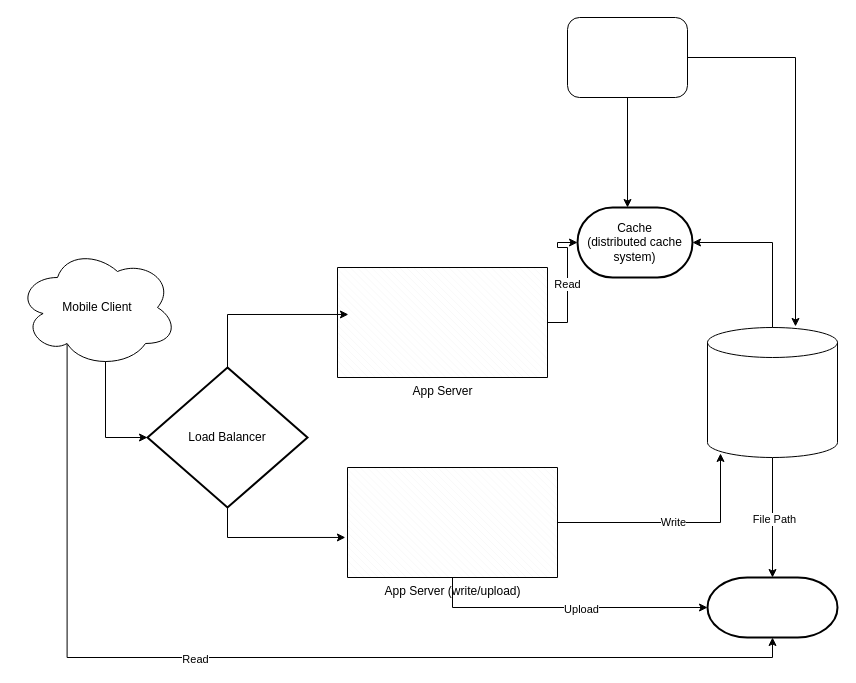
Image size: 856x683. Some labels were removed from this diagram. Each missing label, with the centre of its shape:
Feed Generation Service: (x=627, y=57)
Meta data DB: (x=772, y=392)
Object Storage: (x=772, y=607)
